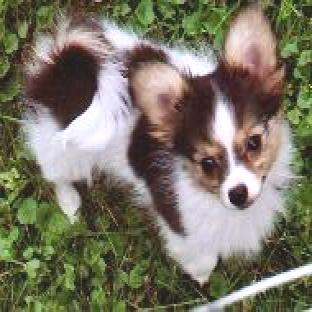Animal: (21, 4, 291, 282)
